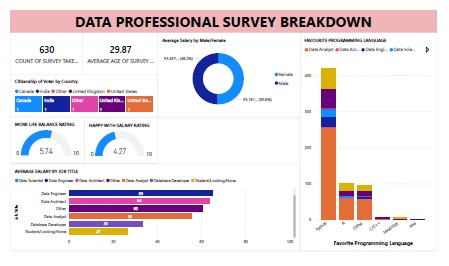

This screenshot's page, from the dashboard's own definition file:
{"tool":"powerbi","page":{"name":"Page 1","canvas":[1280,720],"ordinal":0},"visuals":[{"type":"textbox","box":[0,0,1280,66.7],"z":0},{"type":"card","fields":{"Values":["Count(Data Professional Survey.Unique ID)"]},"box":[0,66.7,218.9,126.7],"z":1000},{"type":"card","fields":{"Values":["Avg(Data Professional Survey.Q10 - Current Age)"]},"box":[217.5,67.5,227.5,125],"z":2000},{"type":"barChart","title":"AVERAGE SALARY BY JOB TITLE","fields":{"Category":["Data Professional Survey.Q1 - Which Title Best Fits your Current Role?.1"],"Y":["Avg(Data Professional Survey.Average Salary)"],"Series":["Data Professional Survey.Q1 - Which Title Best Fits your Current Role?.1"]},"box":[0,460,870,260],"z":3000},{"type":"columnChart","title":"FAVOURITE PROGRAMMING LANGUAGE","fields":{"Category":["Data Professional Survey.Q5 - Favorite Programming Language.1"],"Y":["CountNonNull(Data Professional Survey.Unique ID)"],"Series":["Data Professional Survey.Q1 - Which Title Best Fits your Current Role?.1"]},"box":[870,66.7,410,653.3],"z":4000},{"type":"treemap","fields":{"Group":["Data Professional Survey.Q11 - Which Country do you live in?.1"],"Values":["Count(Data Professional Survey.Q11 - Which Country do you live in?.1)"]},"box":[0,191.7,443.3,128.3],"z":5000},{"type":"gauge","title":"WORK LIFE BALANCE RATING ","fields":{"Y":["Avg(Data Professional Survey.Q6 - How Happy are you in your Current Position with the following? (Work/Life Balance))"],"MinValue":["Min(Data Professional Survey.Q6 - How Happy are you in your Current Position with the following? (Work/Life Balance))"],"MaxValue":["Max(Data Professional Survey.Q6 - How Happy are you in your Current Position with the following? (Work/Life Balance))1"]},"box":[0,320,223.3,136.7],"z":6000},{"type":"gauge","title":"HAPPY WITH SALARY RATING","fields":{"Y":["Avg(Data Professional Survey.Q6 - How Happy are you in your Current Position with the following? (Salary))"],"MinValue":["Min(Data Professional Survey.Q6 - How Happy are you in your Current Position with the following? (Salary))"],"MaxValue":["Max(Data Professional Survey.Q6 - How Happy are you in your Current Position with the following? (Salary))"]},"box":[222.5,322.5,220,135],"z":7000},{"type":"donutChart","fields":{"Y":["Avg(Data Professional Survey.Average Salary)"],"Category":["Data Professional Survey.Q9 - Male/Female?"]},"box":[442.5,67.5,427.5,252.5],"z":7001}]}

Visuals, with their boxes on the page's 1280x720 design canvas (x1, y1, x2, y2). These are canvas units, not pixel positions in the 449x266 screenshot, which may show the page scaled, cropped or inside an application window:
textbox: x1=0, y1=0, x2=1280, y2=67
card - Count(Data Professional Survey.Unique ID): x1=0, y1=67, x2=219, y2=193
card - Avg(Data Professional Survey.Q10 - Current Age): x1=218, y1=68, x2=445, y2=192
"AVERAGE SALARY BY JOB TITLE" barChart: x1=0, y1=460, x2=870, y2=720
"FAVOURITE PROGRAMMING LANGUAGE" columnChart: x1=870, y1=67, x2=1280, y2=720
treemap - Data Professional Survey.Q11 - Which Country do you live in?.1 x Count(Data Professional Survey.Q11 - Which Country do you live in?.1): x1=0, y1=192, x2=443, y2=320
"WORK LIFE BALANCE RATING " gauge: x1=0, y1=320, x2=223, y2=457
"HAPPY WITH SALARY RATING" gauge: x1=222, y1=322, x2=442, y2=458
donutChart - Avg(Data Professional Survey.Average Salary) x Data Professional Survey.Q9 - Male/Female?: x1=442, y1=68, x2=870, y2=320
